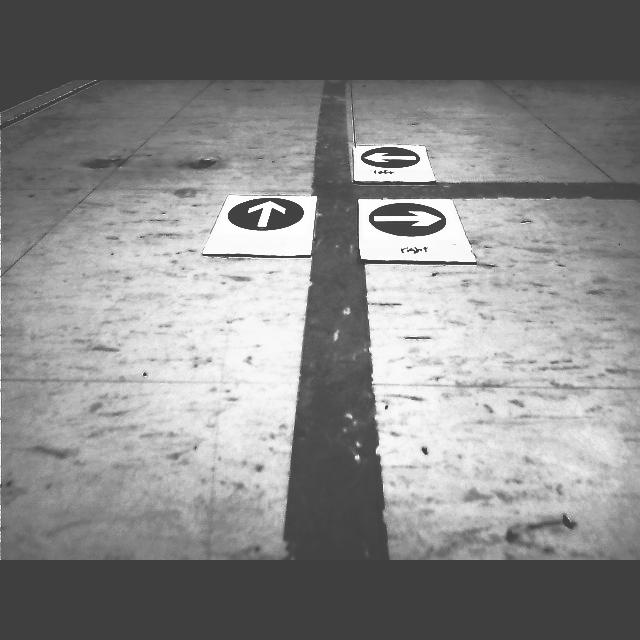GO FORWARD: (228, 198, 303, 230)
TURN LEFT: (360, 146, 420, 167)
TURN RIGHT: (369, 203, 447, 235)
